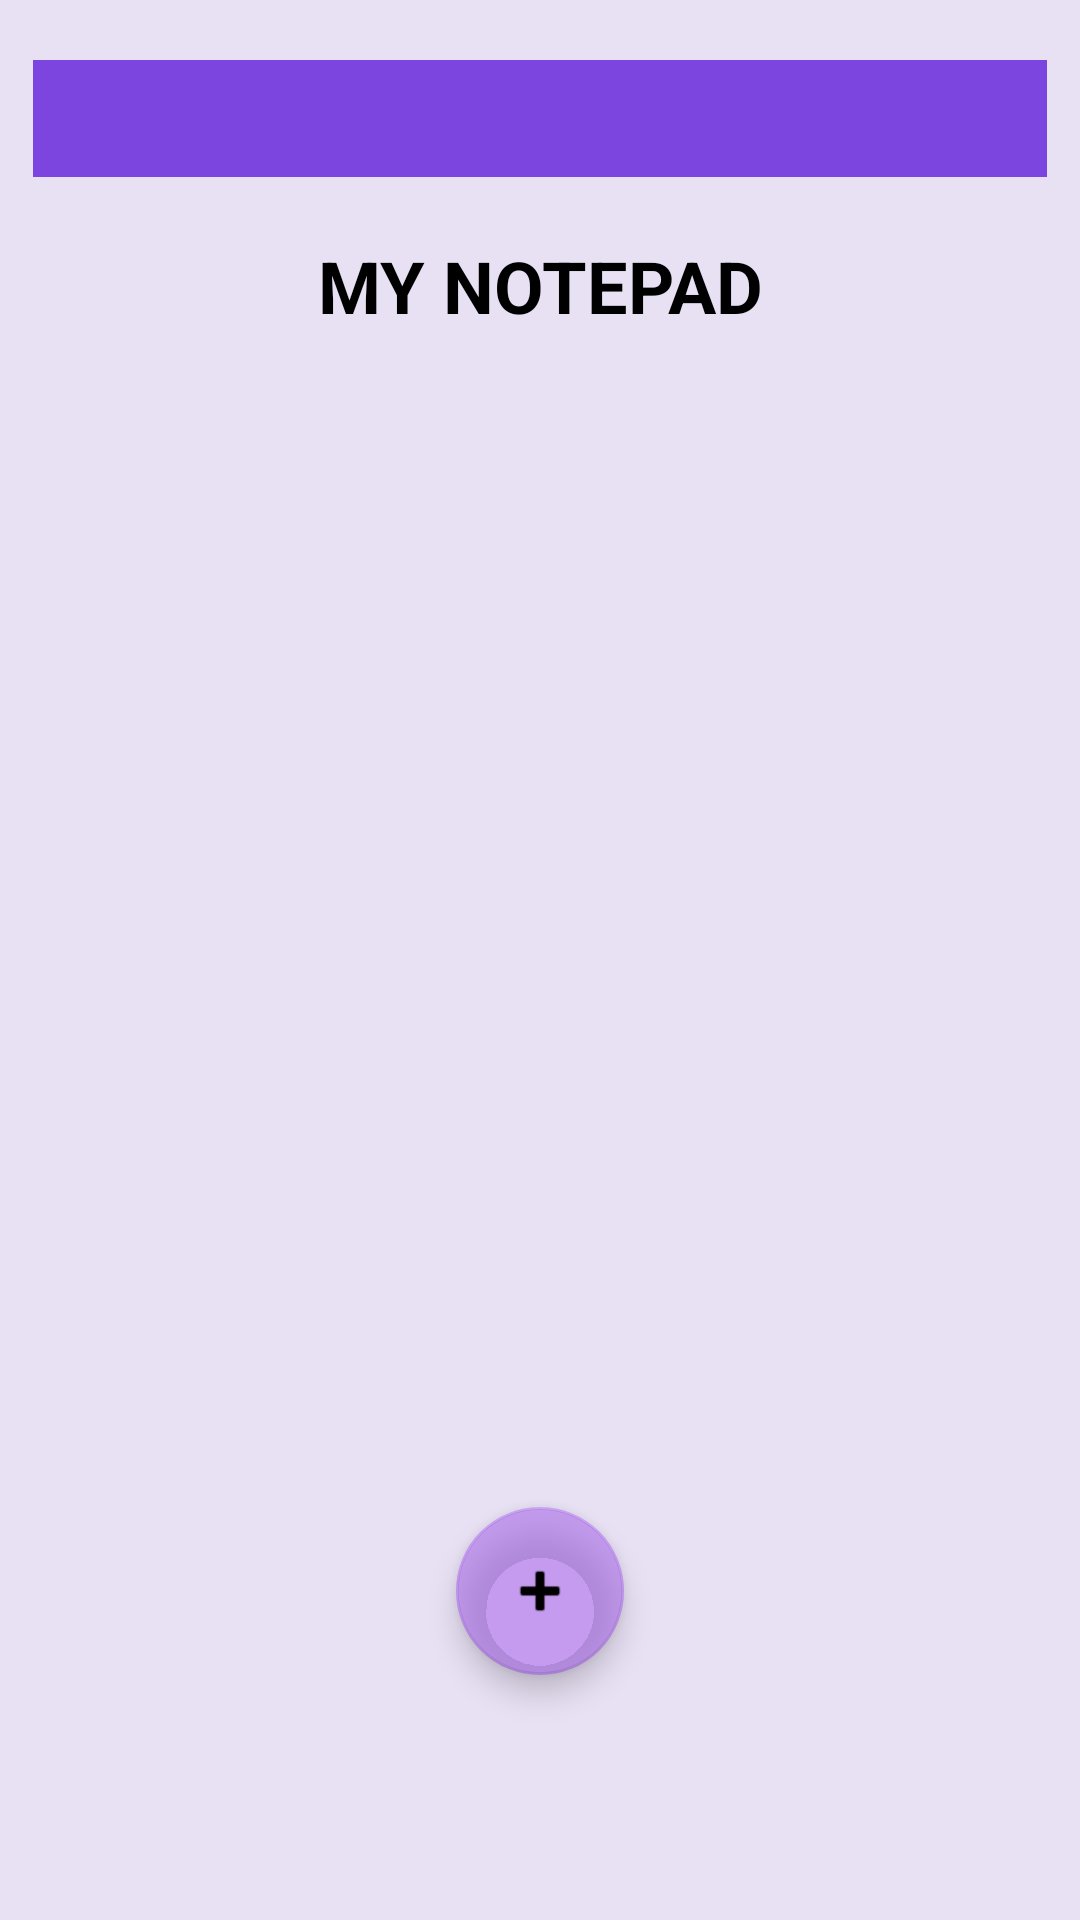

Screen size 1080px x 1920px. Icon name, then its center in pixels as (x,y):
add: (540,1591)
